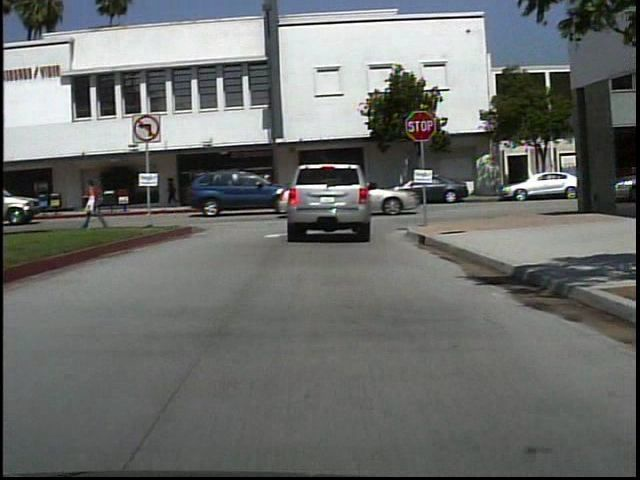person: (79, 174, 114, 232), (298, 163, 326, 233), (189, 173, 207, 207)
